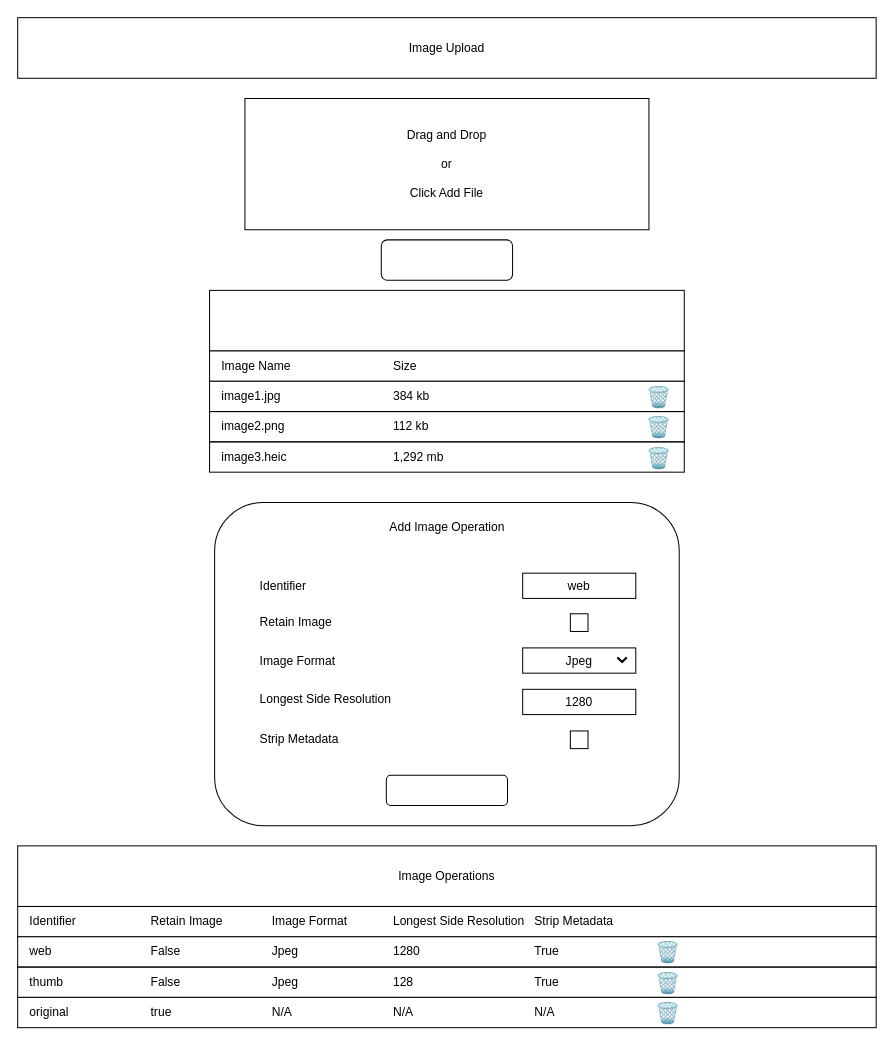
This 894x1052 diagram has some shape labels left out. Each missing label, with the box of its shape:
Add: (385, 774, 508, 805)
Add File: (380, 239, 513, 280)
Files: (209, 289, 684, 351)
